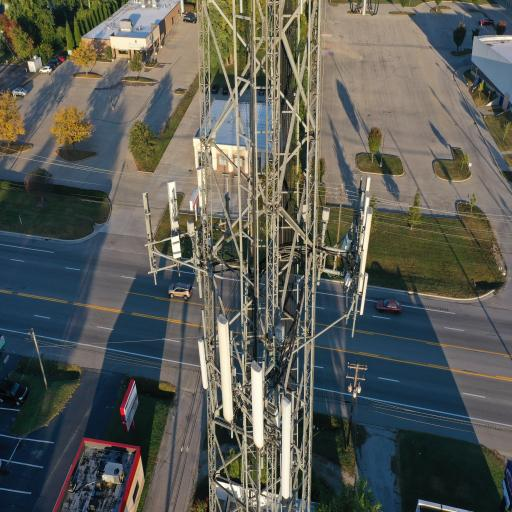supporting_tower: (129, 0, 381, 512)
